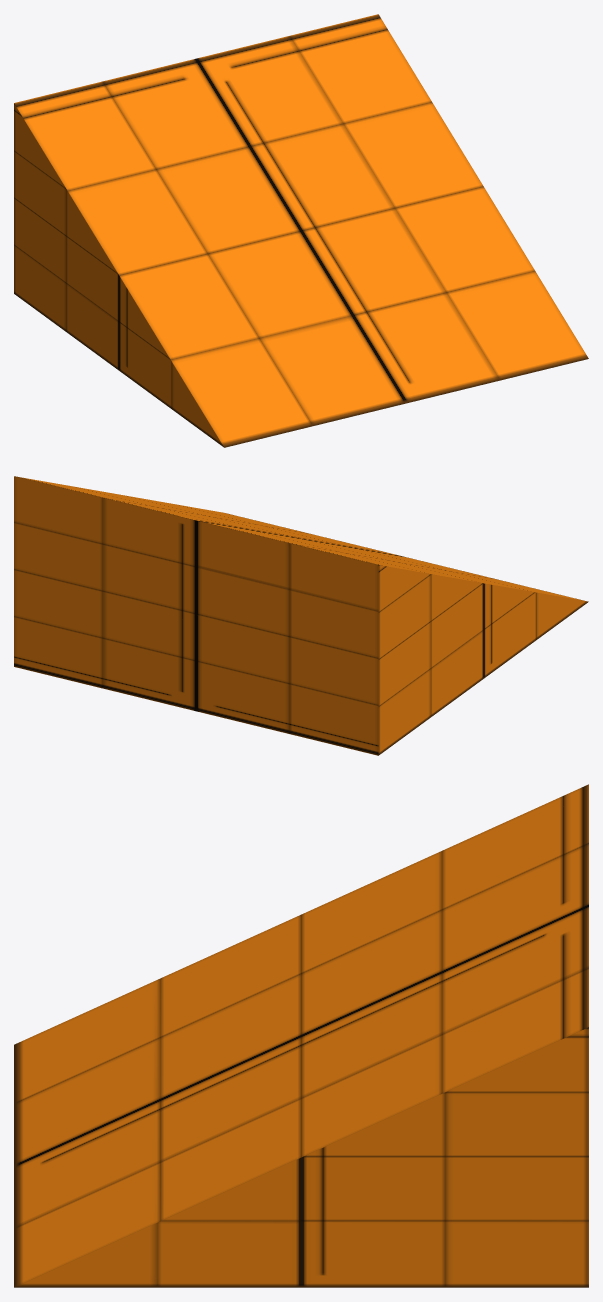
The model's file is ramp2x1.fbx.
The picture shows the model from 3 angles, top to bottom: view 1: azimuth 30°, elevation 25°; view 2: azimuth 150°, elevation 25°; view 3: azimuth 270°, elevation 25°; orthographic projection. The views are drawn at different scales.
Parts seen in each view (by area): view 1: ramp2x1; view 2: ramp2x1; view 3: ramp2x1.
Boxes of the visible parts, box(x1,y1,x2,y2) form: ramp2x1: box(14, 14, 588, 447); ramp2x1: box(14, 476, 588, 755); ramp2x1: box(14, 784, 588, 1287).
Size of the model in its own units: 200 by 100 by 200.
